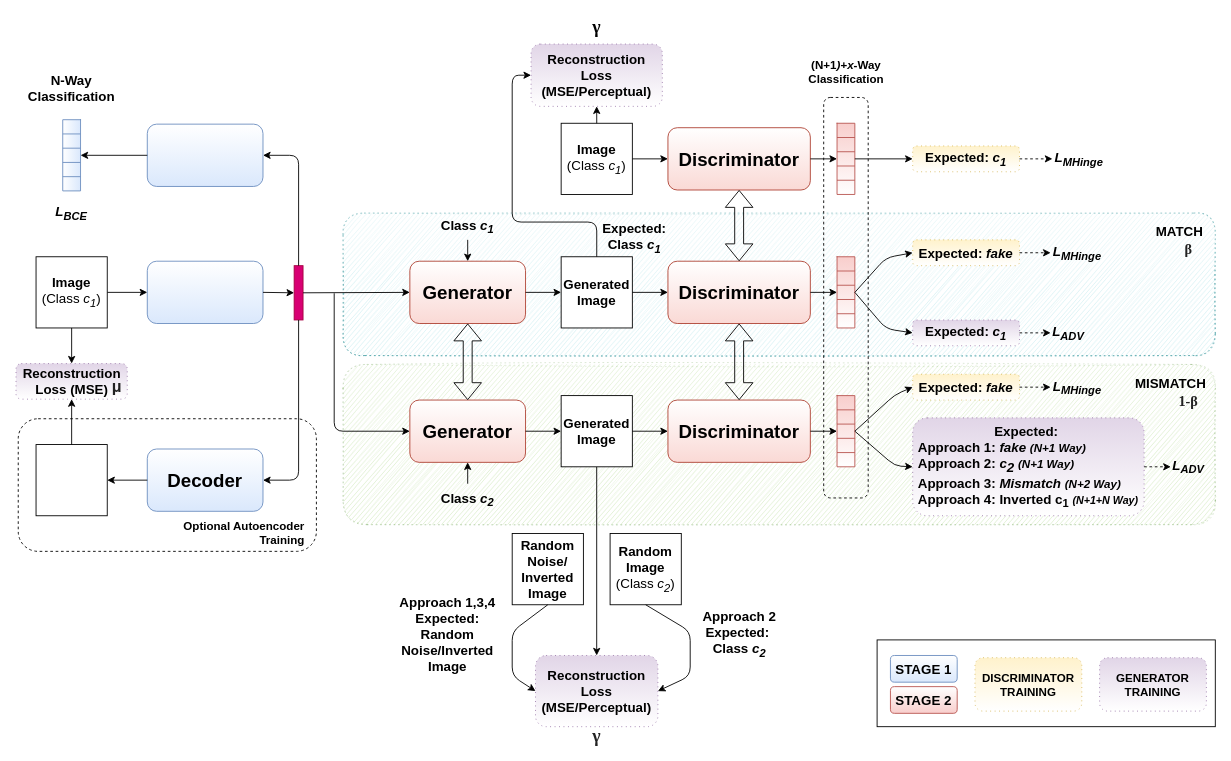
Some shapes in this 1231 by 761 pixel diagram are drawn without their labels. The shapes that lost their labels are listed below. From the top down, each one's centre as x and y in pixels, then its label:
At point 204,154: "Classifier".
At point 204,292: "Encoder".
At point 71,480: "Recon. Image".
